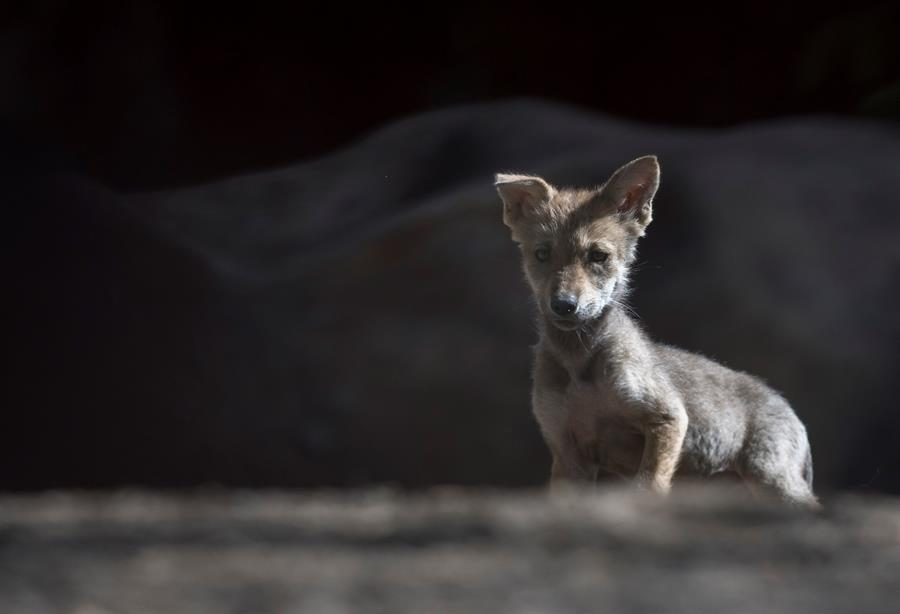Lobo: (479, 136, 824, 506)
